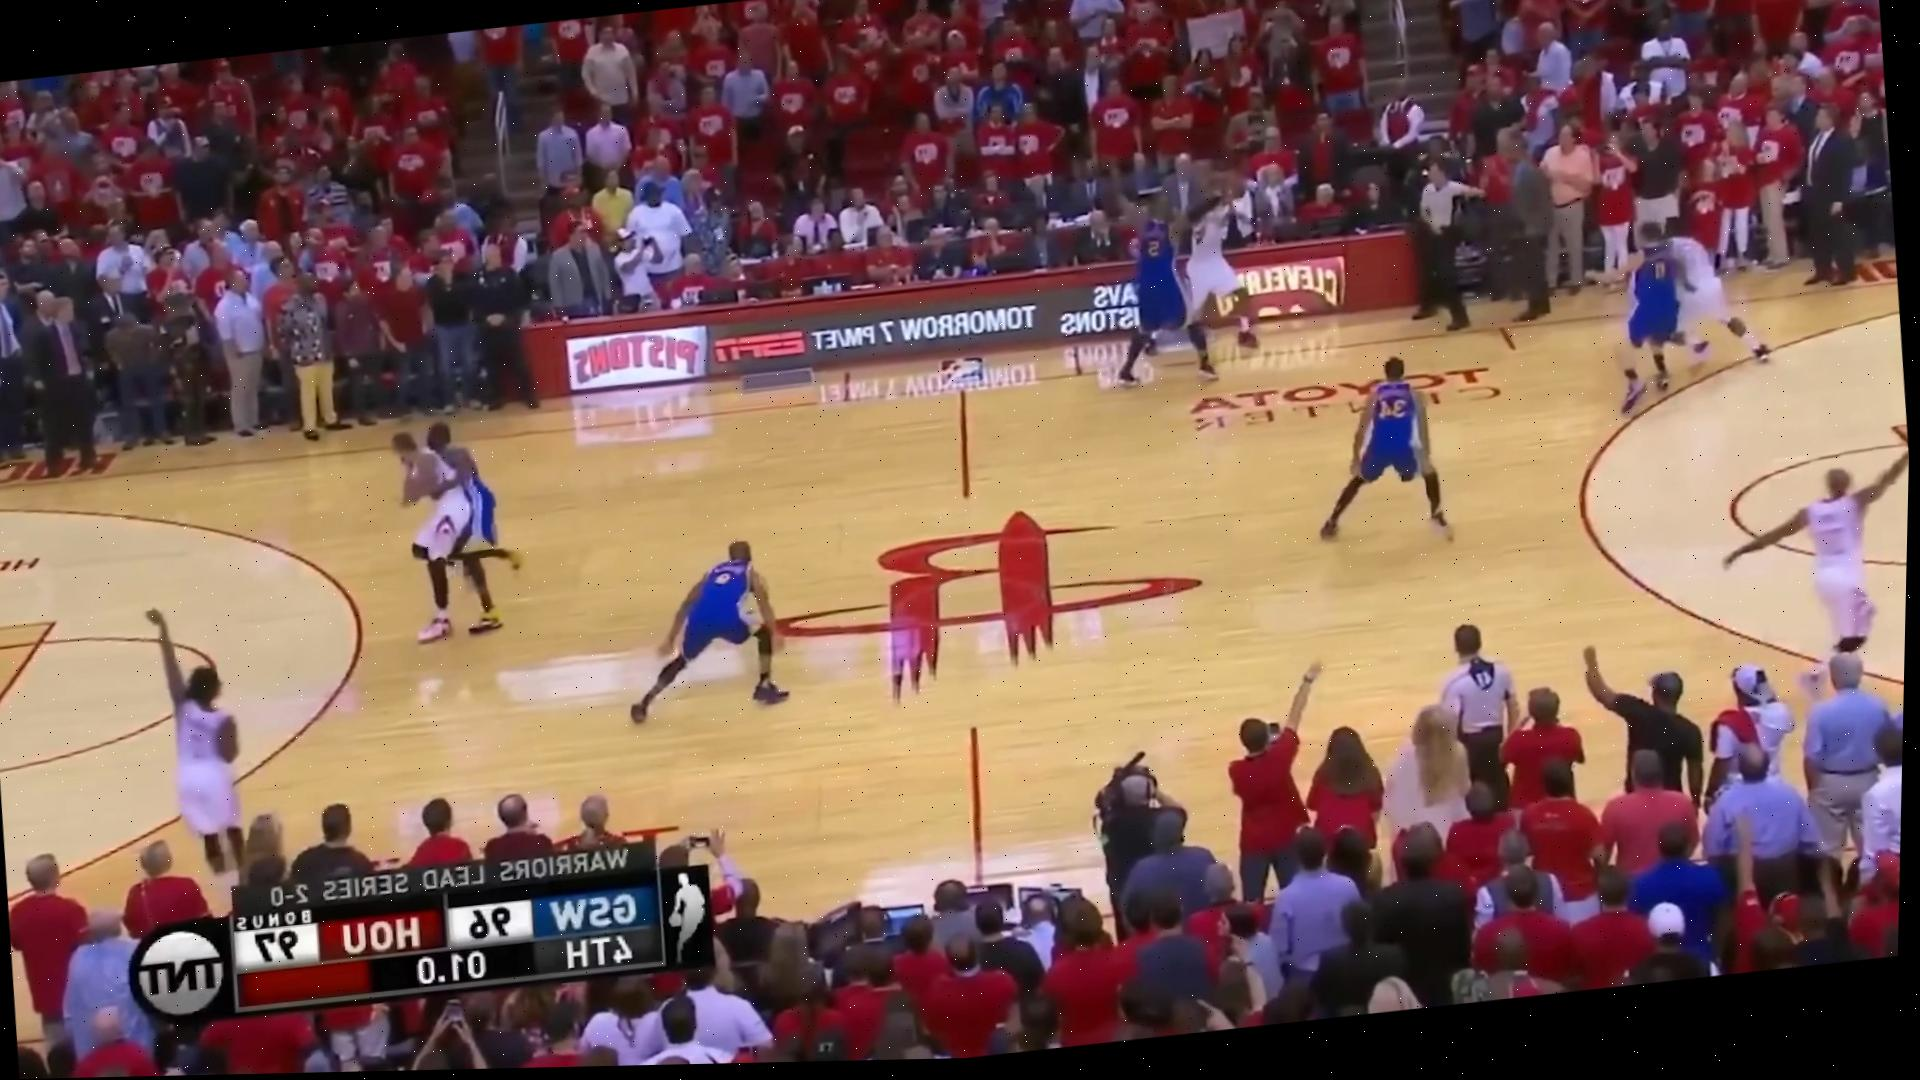foul: (382, 393, 543, 654)
